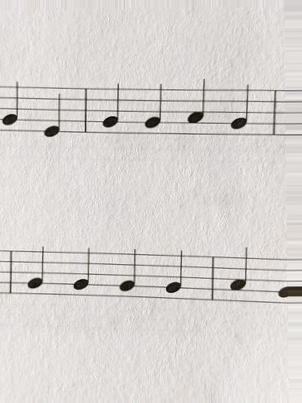note: (226, 245, 253, 309), (226, 83, 251, 145), (68, 246, 93, 304), (184, 76, 207, 139), (141, 81, 164, 143), (22, 242, 47, 299), (42, 84, 66, 143), (160, 247, 183, 308), (99, 80, 123, 138), (117, 245, 139, 304), (2, 78, 23, 139)
